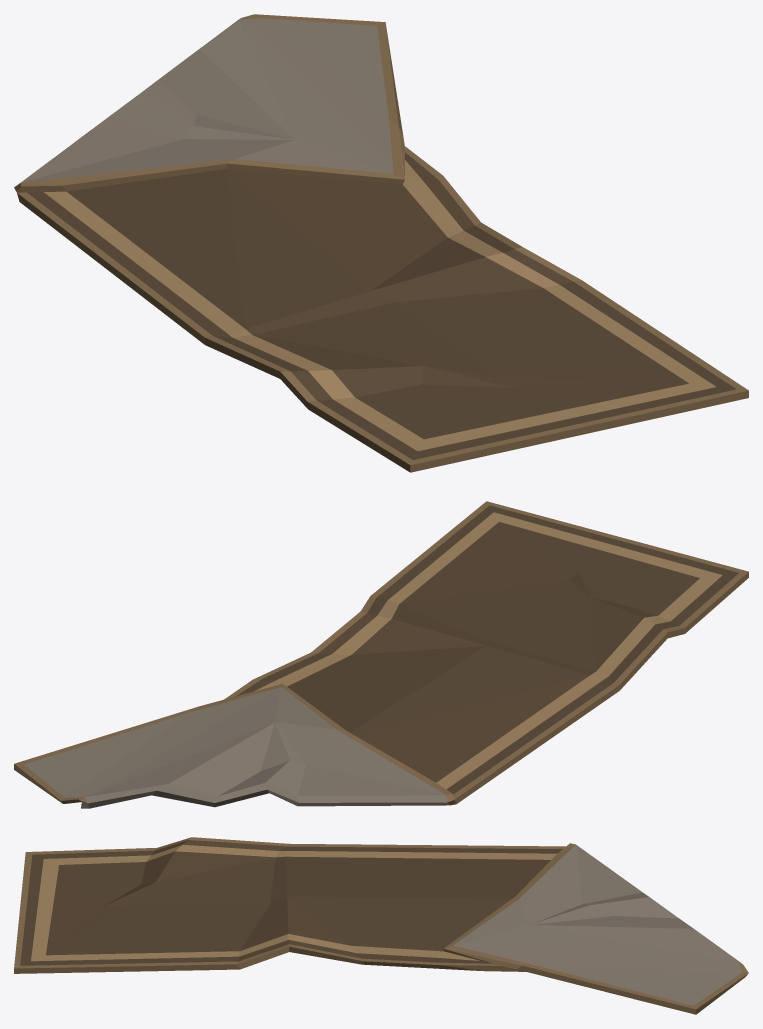
Rendered from SM_Prop_Rug_02.fbx.
3 views of the same model, one above another, from view 1: azimuth 30°, elevation 25°; view 2: azimuth 150°, elevation 25°; view 3: azimuth 270°, elevation 25° (orthographic). The views are drawn at different scales.
Parts seen in each view (by area): view 1: SM_Prop_Rug_02; view 2: SM_Prop_Rug_02; view 3: SM_Prop_Rug_02.
Part boxes in pixels (x1=…): SM_Prop_Rug_02: x1=14, y1=14, x2=748, y2=472; SM_Prop_Rug_02: x1=14, y1=501, x2=748, y2=808; SM_Prop_Rug_02: x1=14, y1=837, x2=748, y2=1014.
Bounding box in the file's own units: 137 × 7.95 × 262.
